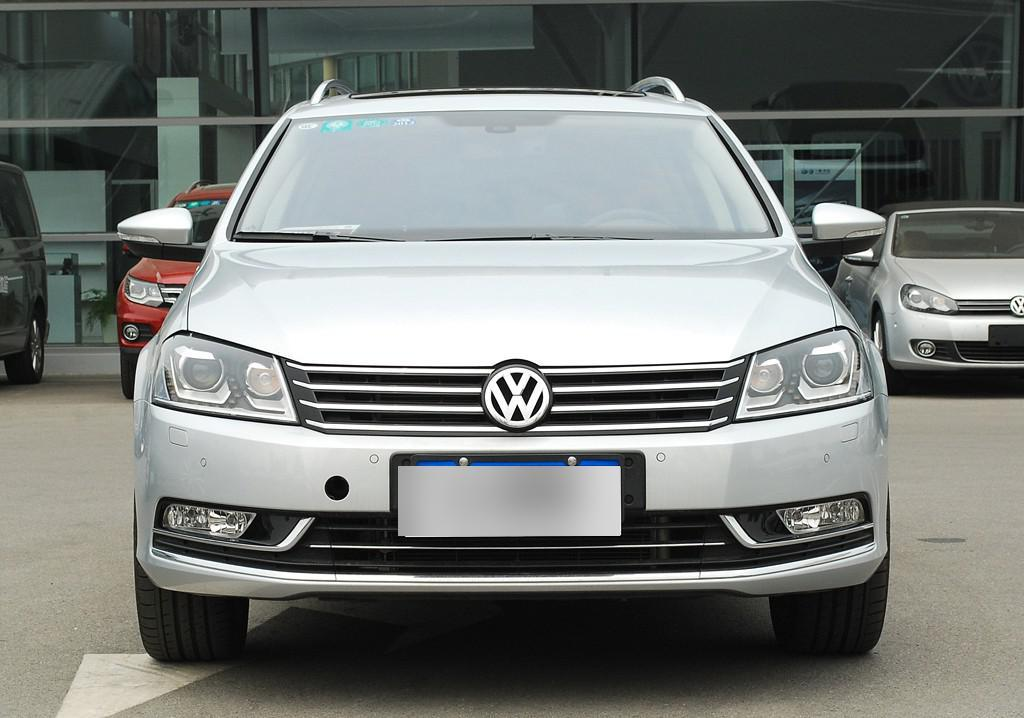Wagon: (118, 77, 889, 653)
